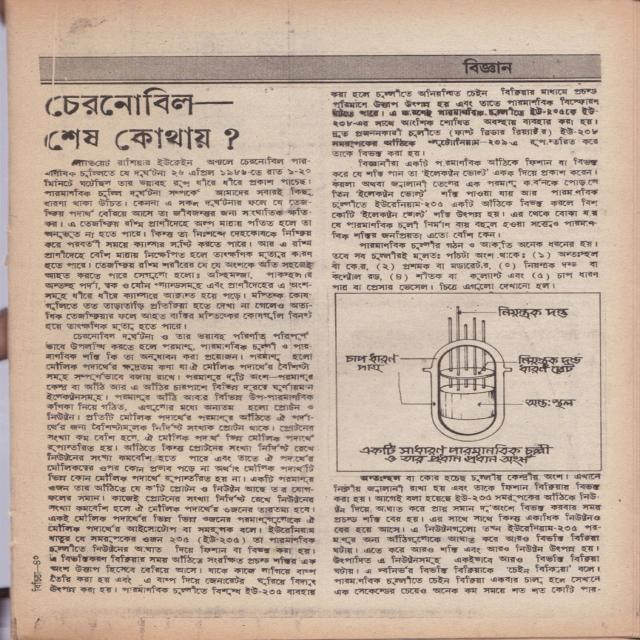image: (336, 293, 601, 470)
page number: (33, 555, 41, 565)
paragraph: (43, 329, 320, 597), (40, 154, 316, 332), (329, 472, 604, 597), (328, 156, 600, 241), (327, 84, 603, 159), (327, 237, 602, 292)
text: (31, 571, 43, 592)
title: (38, 86, 244, 155), (450, 55, 521, 80)
